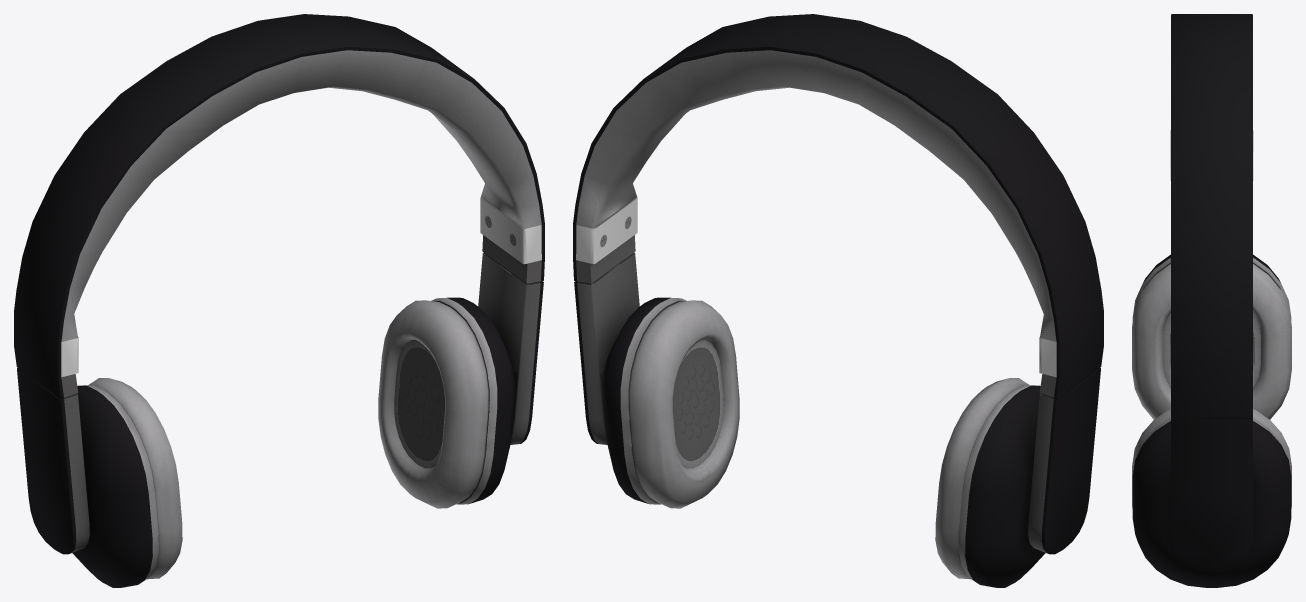
The model's file is Headphones01.FBX.
3 views of the same model, side by side, from view 1: azimuth 30°, elevation 25°; view 2: azimuth 150°, elevation 25°; view 3: azimuth 270°, elevation 25° (orthographic). The views are drawn at different scales.
Parts seen in each view (by area): view 1: Headphones01; view 2: Headphones01; view 3: Headphones01.
Boxes of the visible parts, left/top/right/bottom form: Headphones01: left=14, top=14, right=544, bottom=587; Headphones01: left=573, top=14, right=1103, bottom=587; Headphones01: left=1132, top=14, right=1291, bottom=587.
Bounding box in the file's own units: 21.02 × 20.64 × 6.4.
